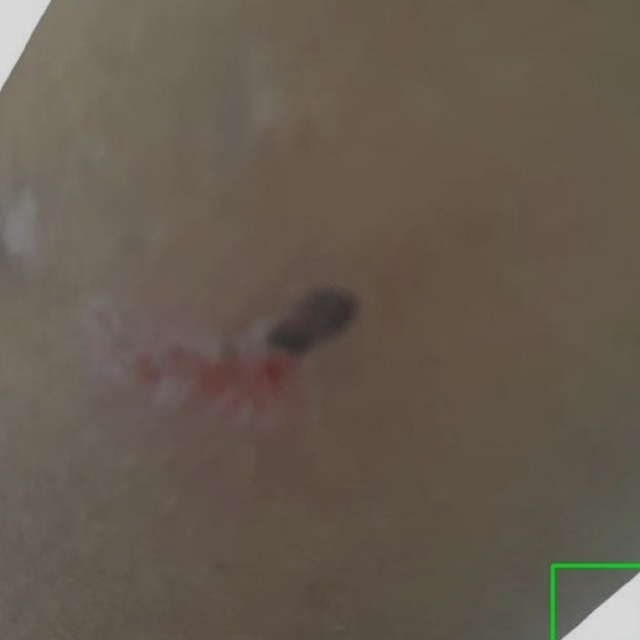Scabies: (552, 565, 639, 639)
